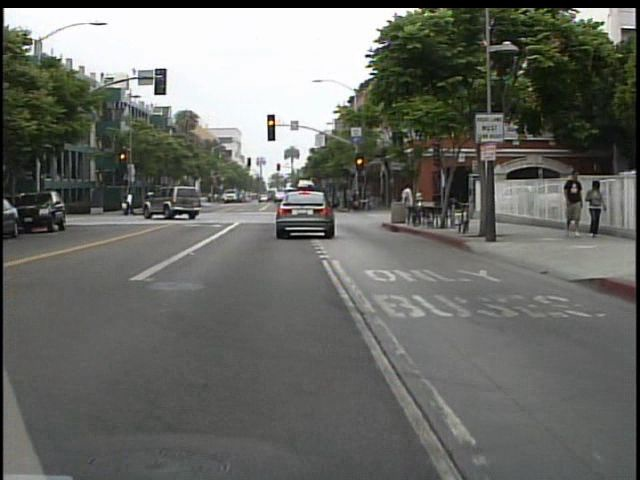person: (561, 164, 589, 240), (584, 176, 609, 242), (399, 178, 422, 226), (126, 187, 143, 220)
